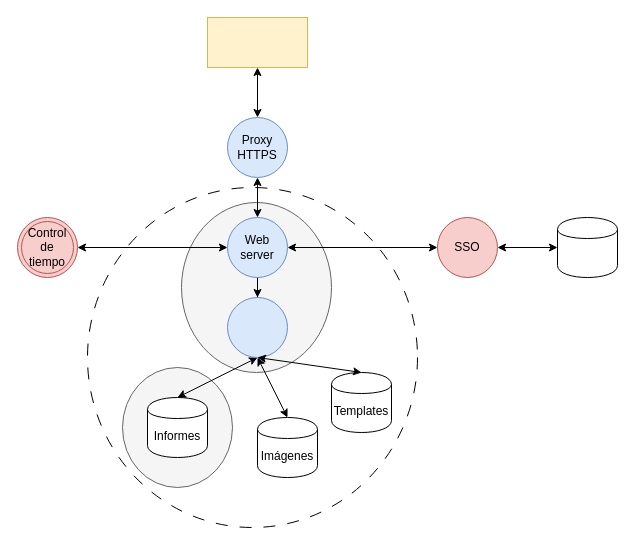
The diagram is 635 pixels wide and 545 high, and some of its shapes have lost their labels. Here are the shapes that lost their labels. From the top down, the box of each, then its label:
(206, 16, 308, 68): Analistas
(556, 216, 618, 278): Usuarios
(226, 296, 288, 358): Codi
